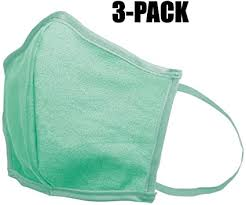cloth_mask: (1, 10, 246, 201)
